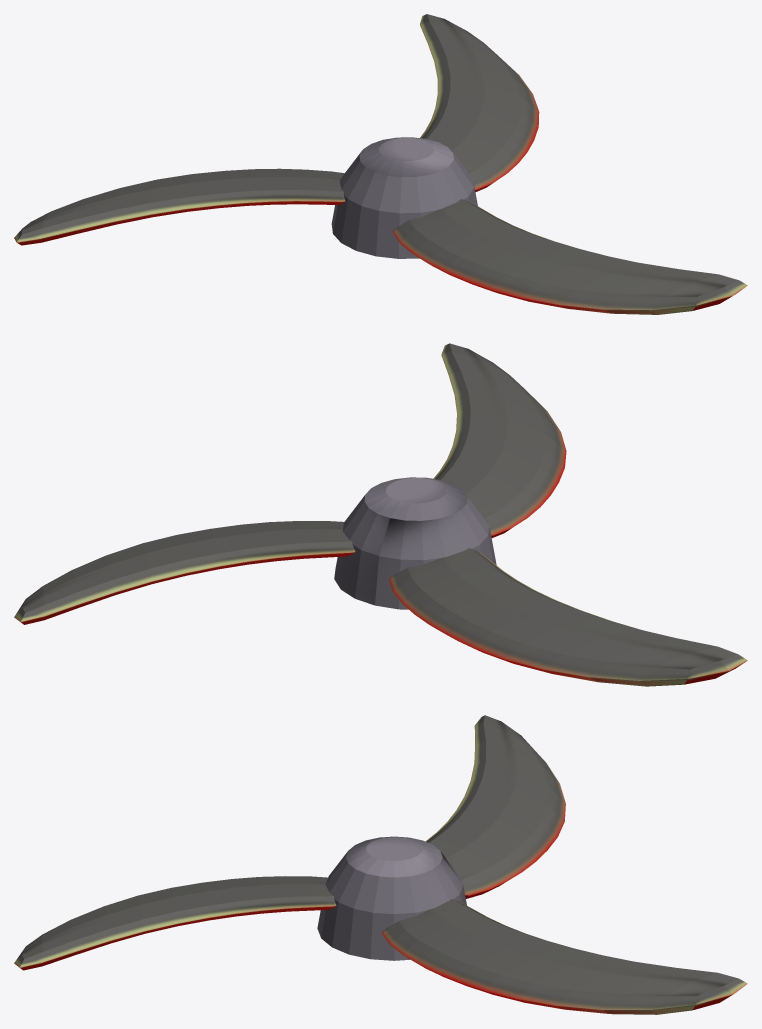
The model's file is Fan.glb.
3 renders of one model, top to bottom at view 1: azimuth 30°, elevation 25°; view 2: azimuth 150°, elevation 25°; view 3: azimuth 270°, elevation 25°, orthographic. The views are drawn at different scales.
Parts seen in each view (by area): view 1: Fan.001; view 2: Fan.001; view 3: Fan.001.
Part boxes in pixels (x1,y1,x2,y2): Fan.001: [14, 14, 747, 314]; Fan.001: [14, 343, 747, 686]; Fan.001: [14, 715, 747, 1014].
Bounding box in the file's own units: 4.83 × 0.636 × 5.34.
Materials: 1 (1 with a texture image).
